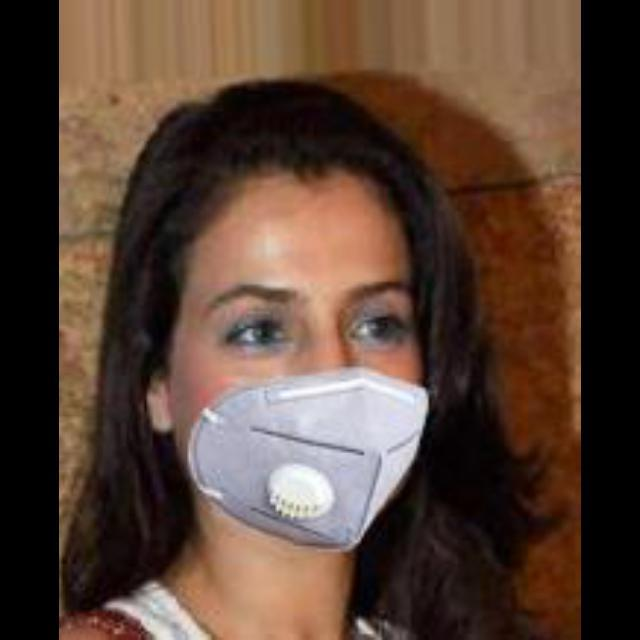suspicion: (192, 140, 436, 552)
